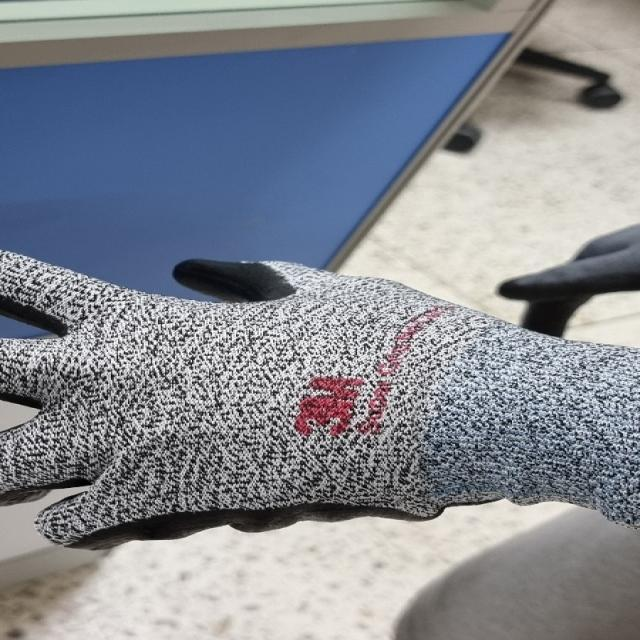Gloves: (0, 253, 636, 552)
